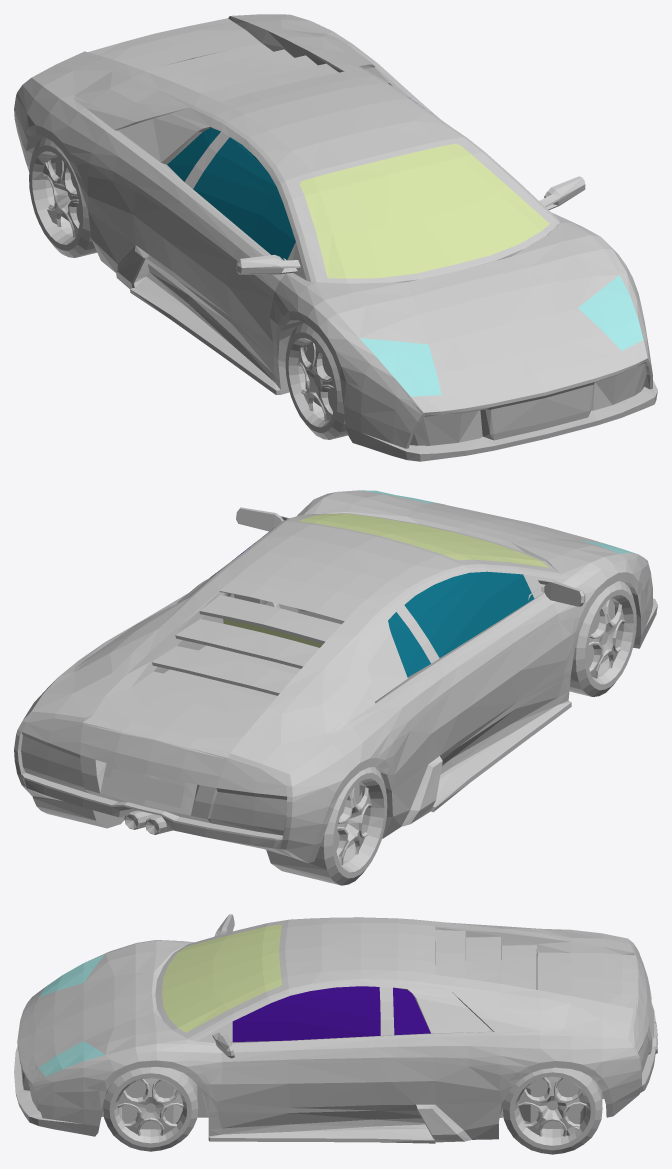
File: murcilego.obj
3 renders of one model, top to bottom at view 1: azimuth 30°, elevation 25°; view 2: azimuth 150°, elevation 25°; view 3: azimuth 270°, elevation 25°, orthographic. The views are drawn at different scales.
Parts seen in each view (by area): view 1: FrB02, Top02, WnFr02, SiRR02, Hood02, DrR02, Misc_Parts02, WnR02, Sir02, WhRr02, SiRL02, WhFr02 (+4 smaller); view 2: SiRR02, RrB02, Misc_Parts02, Top02, DrR02, SiRL02, FrB02, WnR02, WhRr02, Sir02, WhFr02, WnFr02 (+4 smaller); view 3: SiRL02, Top02, FrB02, DrL02, Misc_Parts02, WnFr02, WnL02, Hood02, Sil02, WhRL02, WhFL02, RrB02 (+6 smaller).
Part boxes in pixels (x1,y1,x2,y2): FrB02: [273, 221, 657, 461]; Top02: [171, 66, 560, 283]; WnFr02: [300, 143, 549, 278]; SiRR02: [14, 51, 218, 288]; Hood02: [408, 257, 621, 394]; DrR02: [162, 181, 313, 360]; Misc_Parts02: [118, 43, 585, 280]; WnR02: [167, 127, 295, 260]; Sir02: [130, 258, 280, 394]; WhRr02: [29, 137, 97, 257]; SiRL02: [228, 14, 439, 118]; WhFr02: [285, 323, 347, 439]; SiRR02: [228, 621, 459, 863]; RrB02: [21, 687, 292, 857]; Misc_Parts02: [108, 507, 585, 834]; Top02: [182, 513, 560, 663]; DrR02: [432, 574, 583, 746]; SiRL02: [14, 591, 225, 798]; FrB02: [298, 490, 657, 679]; WnR02: [388, 571, 534, 677]; WhRr02: [266, 767, 387, 885]; Sir02: [433, 676, 571, 811]; WhFr02: [569, 581, 636, 696]; WnFr02: [300, 513, 549, 567]; SiRL02: [379, 975, 641, 1142]; Top02: [155, 917, 458, 1041]; FrB02: [14, 940, 218, 1136]; DrL02: [184, 1035, 397, 1116]; Misc_Parts02: [196, 914, 657, 1058]; WnFr02: [162, 924, 282, 1032]; WnL02: [232, 986, 430, 1041]; Hood02: [30, 972, 153, 1067]; Sil02: [208, 1110, 435, 1143]; WhRL02: [503, 1067, 602, 1154]; WhFL02: [103, 1066, 198, 1151]; RrB02: [571, 942, 657, 1092].
Bounding box in the file's own units: 2.1 × 1.11 × 4.25.
